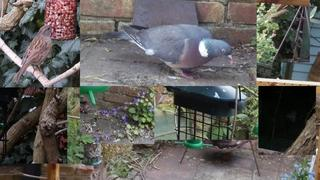dunnock: (12, 24, 56, 83)
wood pigeon: (104, 24, 233, 80)
